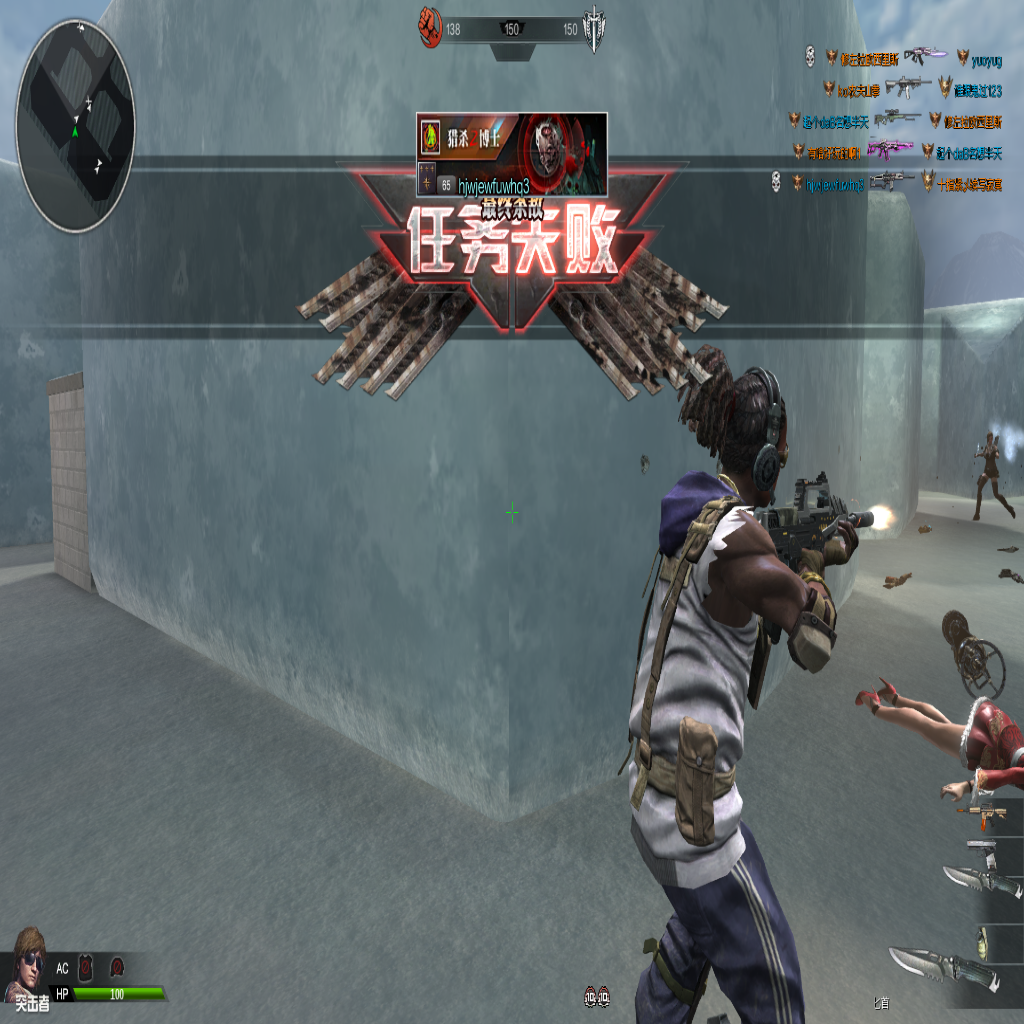ct: (971, 424, 1016, 525)
